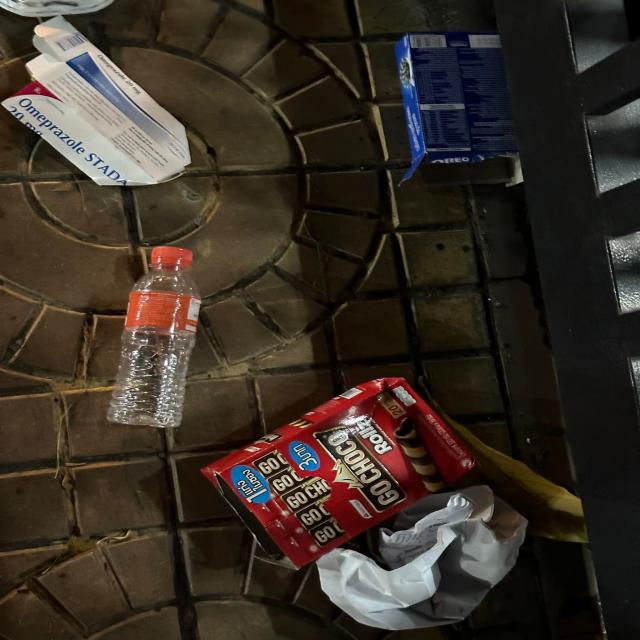bottle: (107, 245, 204, 427)
cardboard box: (200, 376, 477, 573), (0, 16, 192, 186), (393, 34, 525, 190)
paper: (316, 483, 531, 632)
